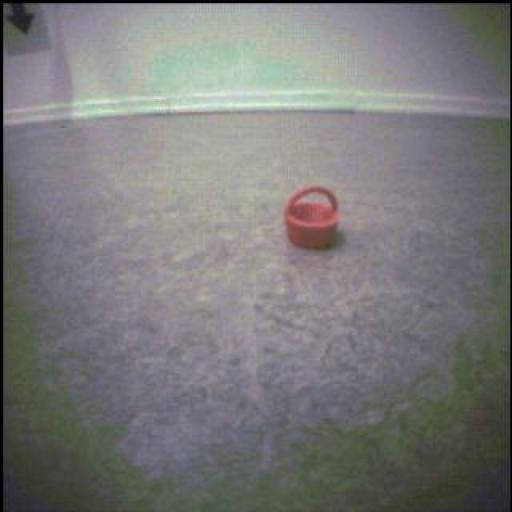Arrow: (9, 4, 35, 35)
Bucket: (283, 183, 348, 253)
